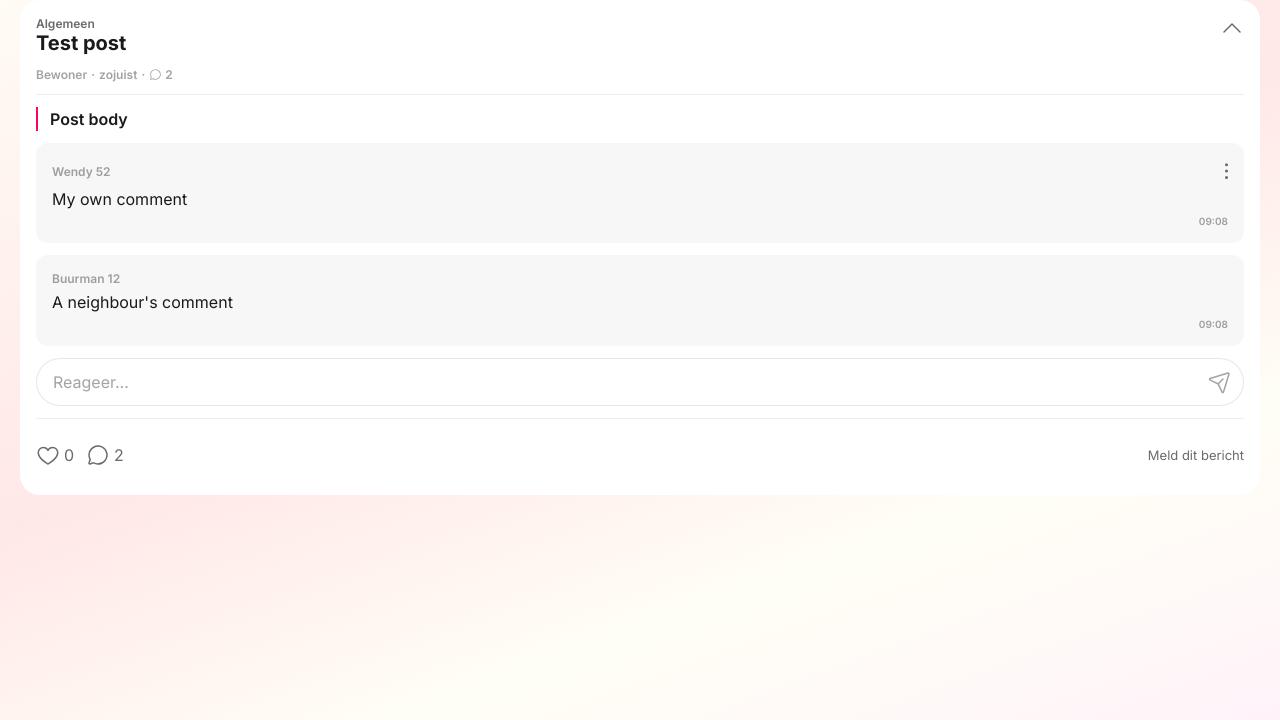
it: CommentItem OverflowMenu › edits a comment: opens the menu, saves, shows the updated body and an Edited label
Check: the text "My own comment" is shown, box [52,189,187,209]
Click the button named "Meer opties": x=1206, y=161 [1184,139,1228,183]
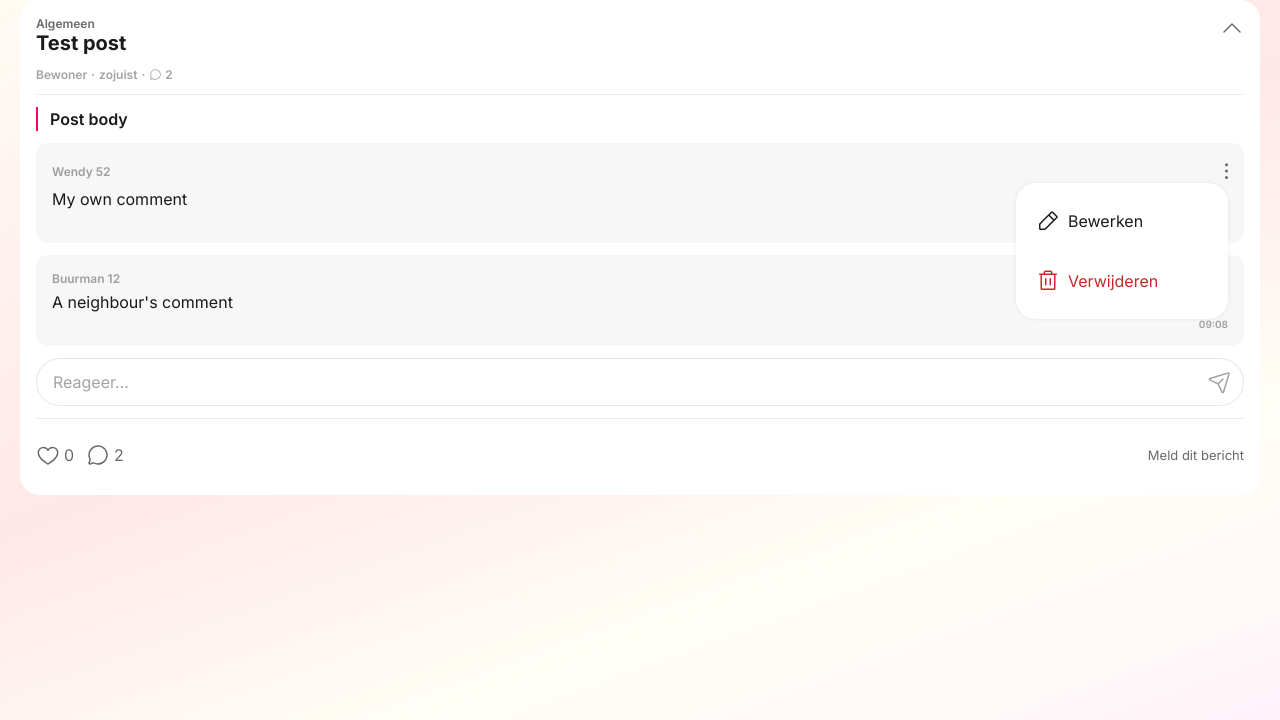
Click the button "Bewerken": x=1122, y=221 [1036,199,1208,243]
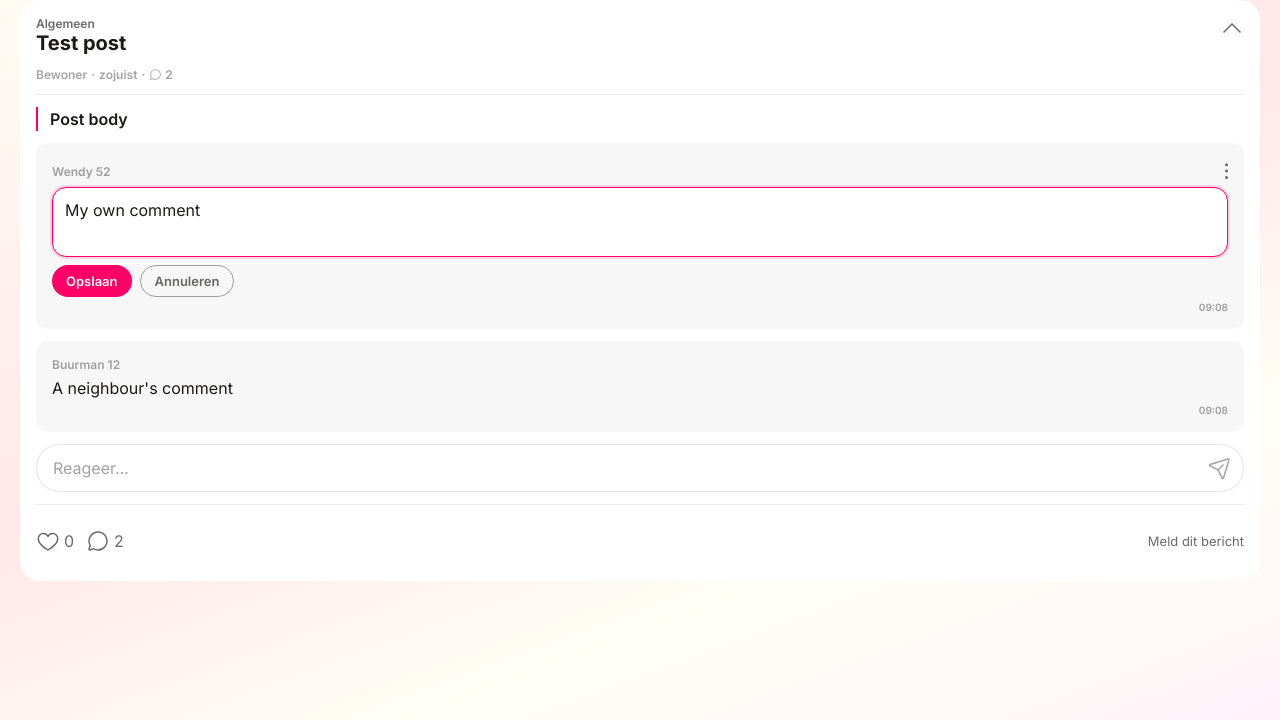
Replace the text in the text box showing "My own comment" with "Updated text": x=640, y=222 [52,187,1228,257]
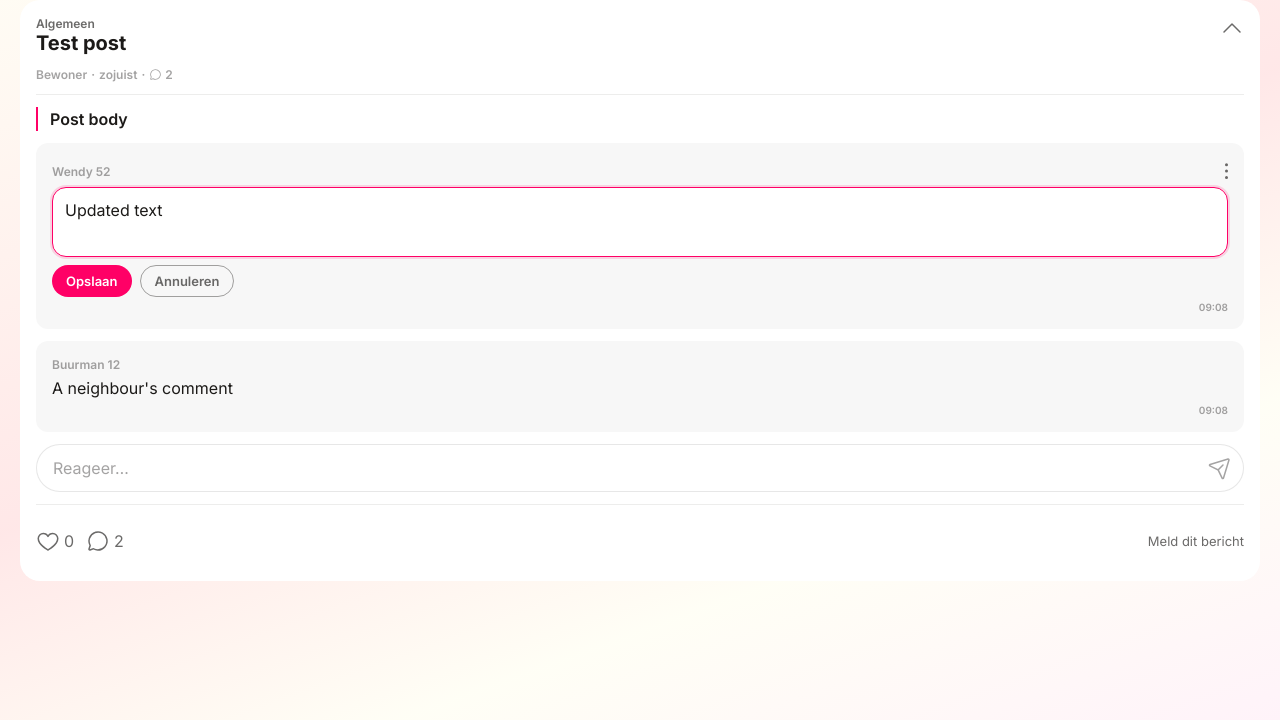
Click the button "Opslaan": x=92, y=281 [52,265,132,297]
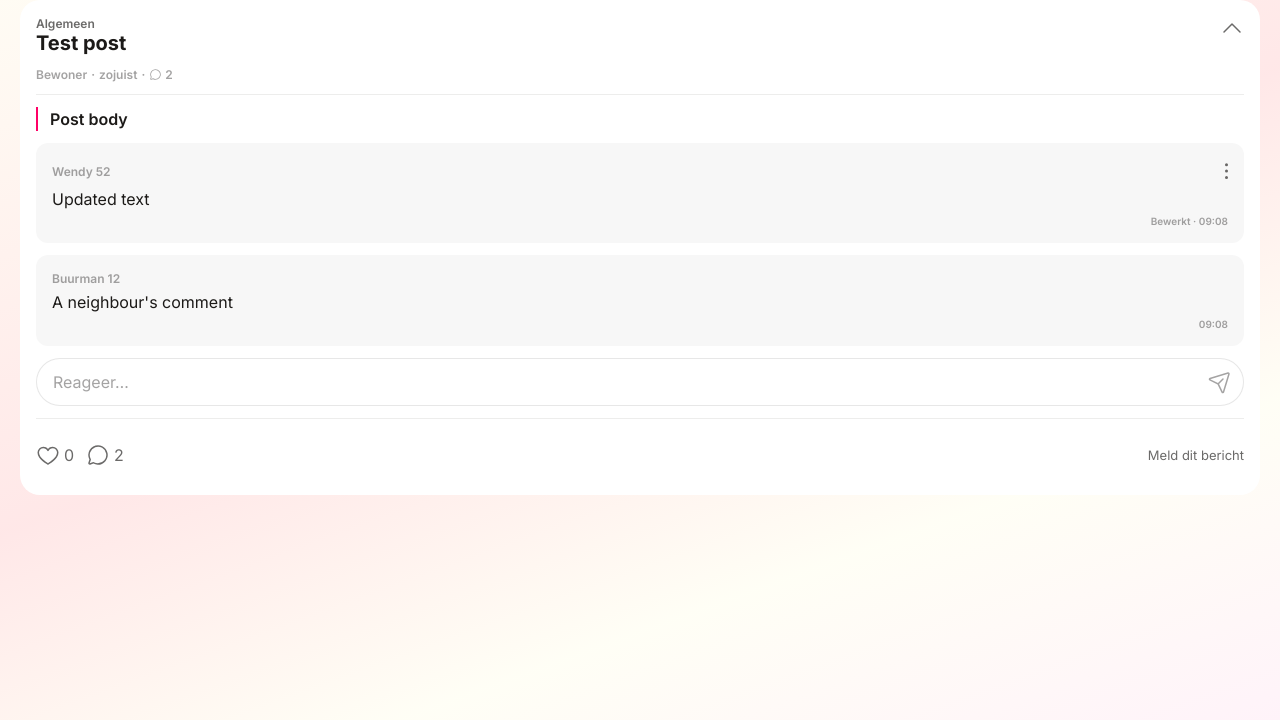
Check: the text "My own comment" is not shown
Check: the text "Updated text" is shown, box [52,189,150,209]
Check: the text "Bewerkt · 09:08" is shown, box [1151,215,1228,227]
